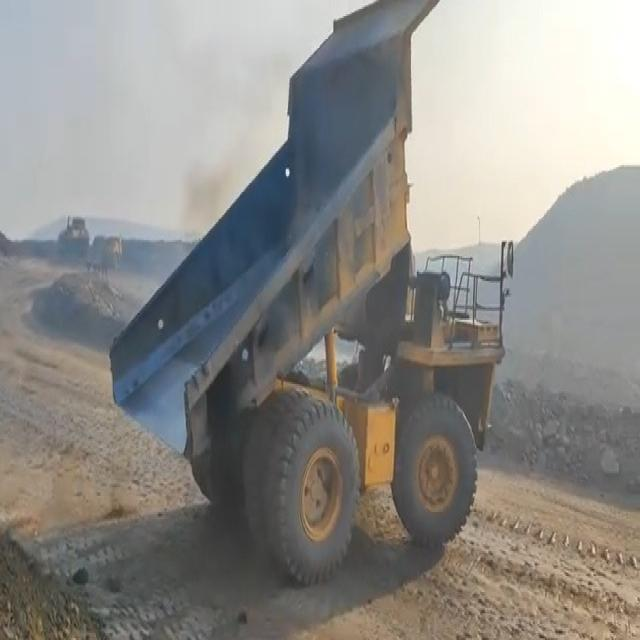dump_truck: (112, 5, 514, 579)
